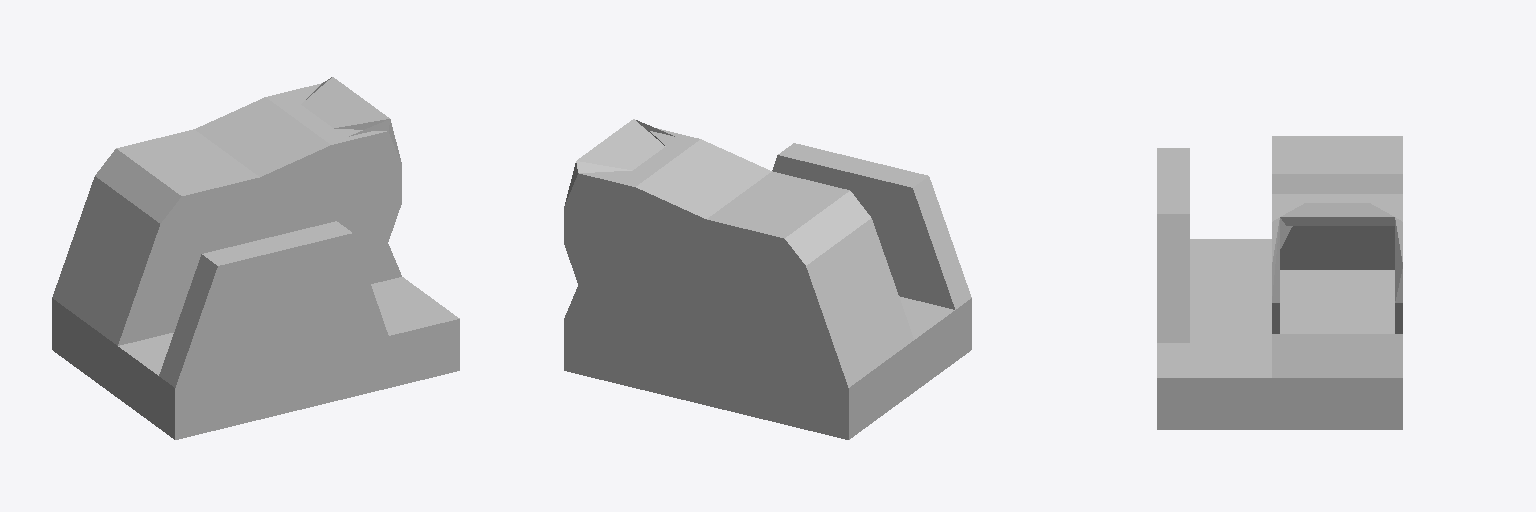
File: CraneCab.obj
3 renders of one model, left to right at view 1: azimuth 30°, elevation 25°; view 2: azimuth 150°, elevation 25°; view 3: azimuth 270°, elevation 25°, orthographic.
Parts seen in each view (by area): view 1: Cube.001_Cube.004; view 2: Cube.001_Cube.004; view 3: Cube.001_Cube.004.
Part boxes in pixels (left/top/right/bottom): Cube.001_Cube.004: left=52, top=77, right=459, bottom=439; Cube.001_Cube.004: left=564, top=119, right=971, bottom=439; Cube.001_Cube.004: left=1157, top=136, right=1402, bottom=429.
Size of the model in its own units: 4 by 2.81 by 3.